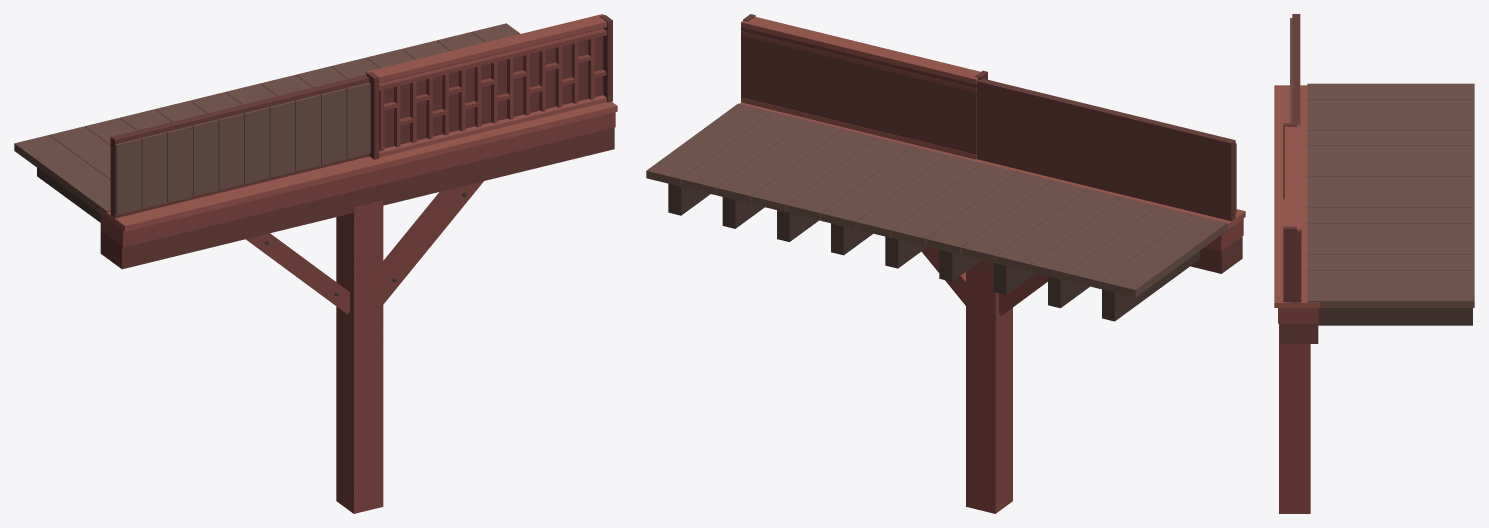
The model's file is hongkou-tanggu-lane-veranda-knee-braces-lod.glb.
The picture shows the model from 3 angles, left to right: view 1: azimuth 30°, elevation 25°; view 2: azimuth 150°, elevation 25°; view 3: azimuth 270°, elevation 25°; orthographic projection. The views are drawn at different scales.
Parts seen in each view (by area): view 1: 塘沽路73弄住宅红漆外廊柱、成对斜撑与上层格板; view 2: 塘沽路73弄住宅红漆外廊柱、成对斜撑与上层格板; view 3: 塘沽路73弄住宅红漆外廊柱、成对斜撑与上层格板.
Part boxes in pixels (x1=…): 塘沽路73弄住宅红漆外廊柱、成对斜撑与上层格板: x1=14, y1=14, x2=617, y2=513; 塘沽路73弄住宅红漆外廊柱、成对斜撑与上层格板: x1=646, y1=14, x2=1245, y2=513; 塘沽路73弄住宅红漆外廊柱、成对斜撑与上层格板: x1=1274, y1=14, x2=1474, y2=513.
Bounding box in the file's own units: 3 × 2.49 × 1.17.
